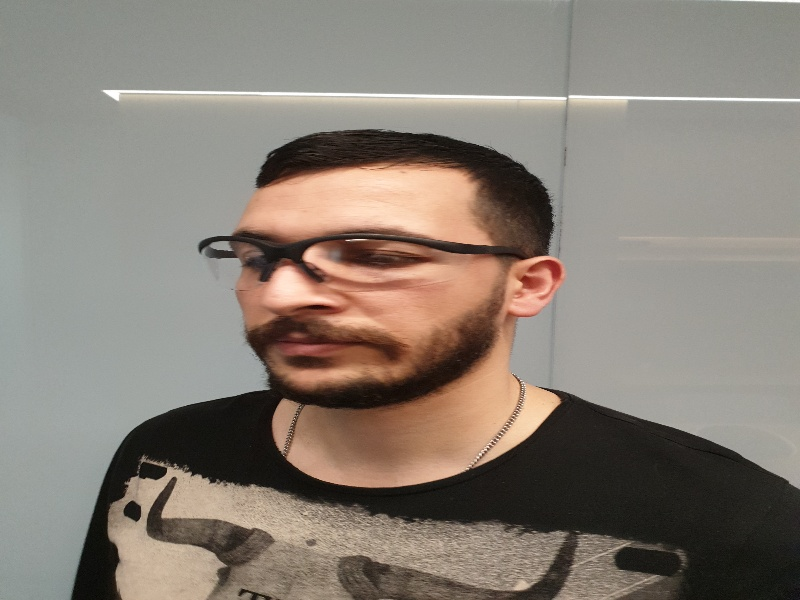Gozluk: (195, 235, 522, 285)
